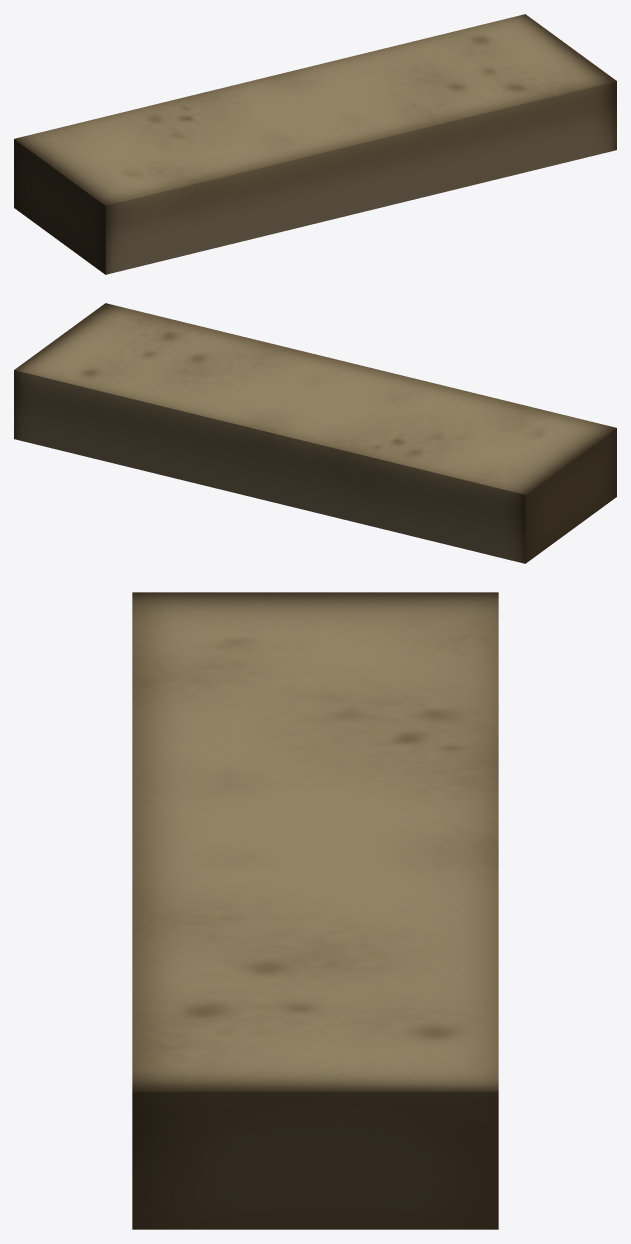
The model's file is streetBrick.fbx.
3 renders of one model, top to bottom at view 1: azimuth 30°, elevation 25°; view 2: azimuth 150°, elevation 25°; view 3: azimuth 270°, elevation 25°, orthographic. The views are drawn at different scales.
Parts seen in each view (by area): view 1: streetBrick_; view 2: streetBrick_; view 3: streetBrick_.
Boxes of the visible parts, x1,y1,x2,y2 form: streetBrick_: (14,14,616,274); streetBrick_: (14,303,616,563); streetBrick_: (132,592,498,1229).
Size of the model in its own units: 100 by 12.89 by 31.
